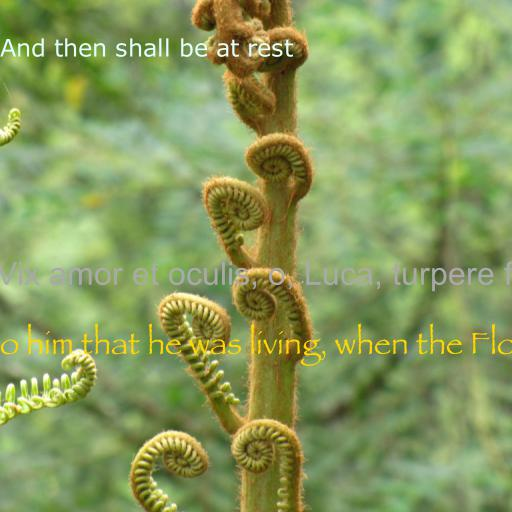Arial: (0, 261, 512, 292)
Papyrus: (0, 323, 512, 366)
Verdana: (0, 38, 293, 57)
